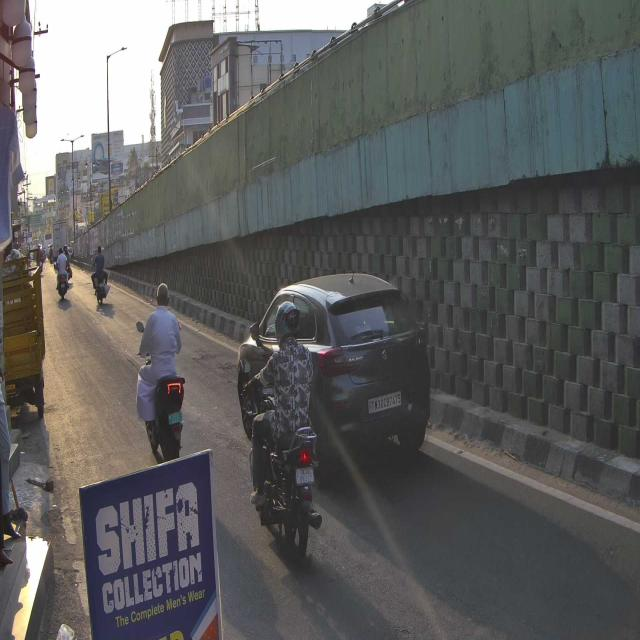single_rider: (240, 302, 324, 558), (136, 283, 186, 464)
